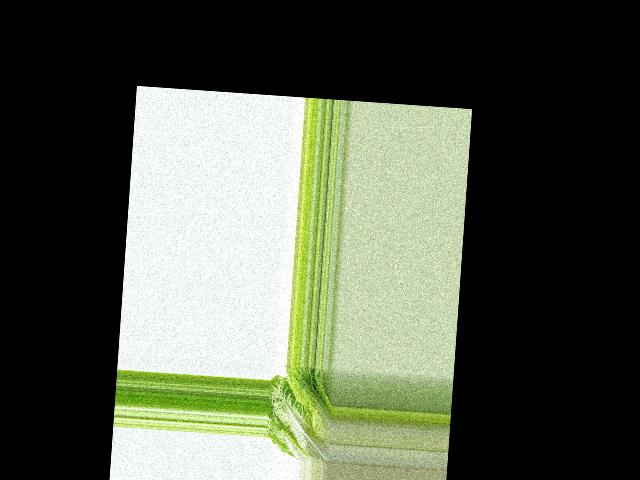lettuce: (265, 363, 334, 463)
